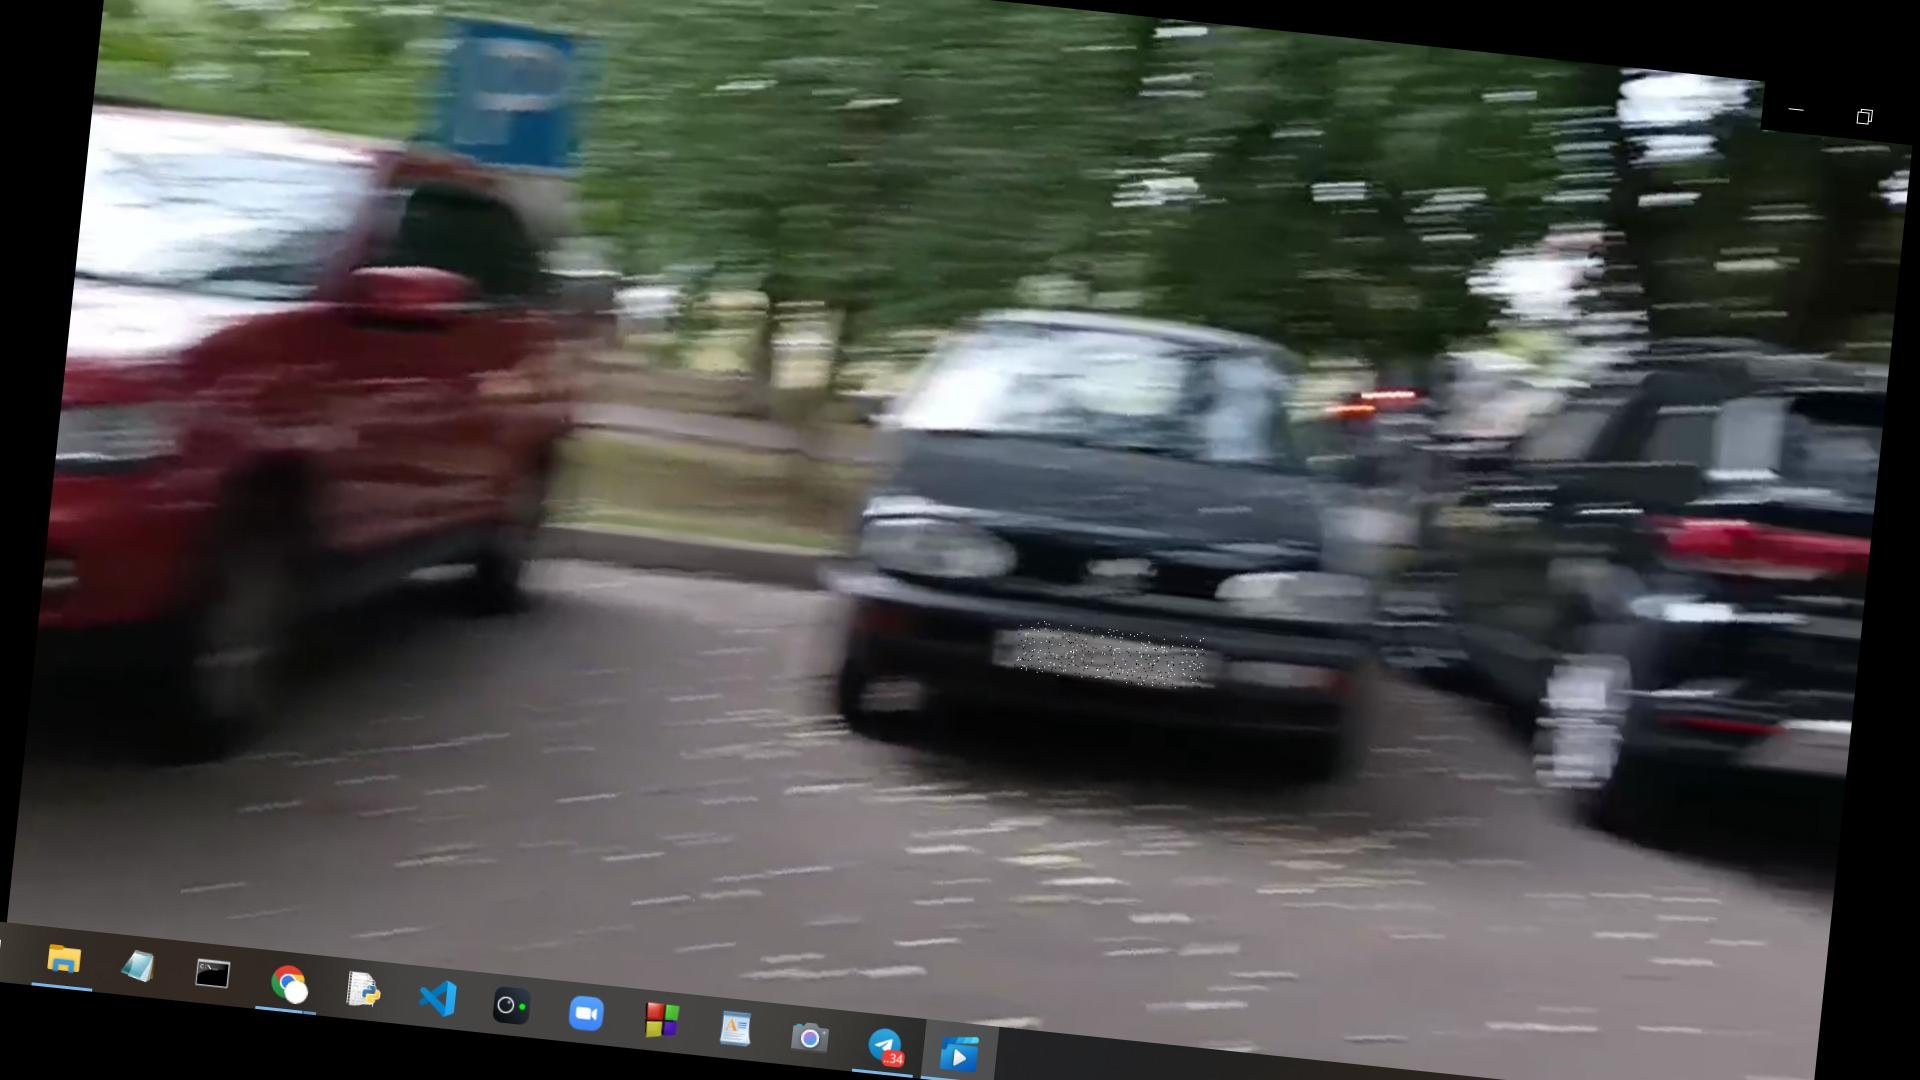plate: (1015, 621, 1208, 693)
